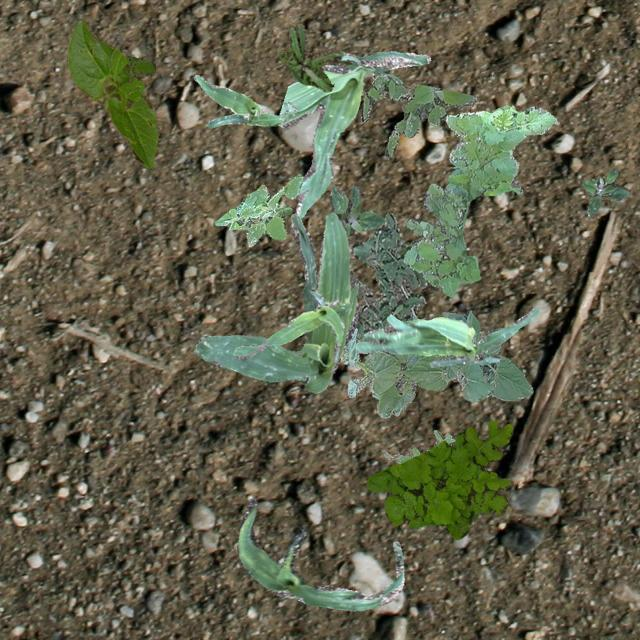crop: (194, 210, 358, 392), (276, 49, 429, 218), (342, 308, 532, 418), (235, 496, 404, 610), (66, 19, 158, 168), (354, 306, 538, 366), (232, 288, 348, 361), (192, 74, 296, 126), (352, 234, 426, 288)
weed: (402, 104, 556, 296), (366, 419, 512, 538), (354, 212, 424, 392), (359, 74, 476, 158), (214, 173, 302, 246), (276, 23, 342, 90), (328, 182, 384, 236), (382, 428, 454, 462), (582, 168, 628, 215), (124, 54, 154, 88), (253, 183, 266, 190)
